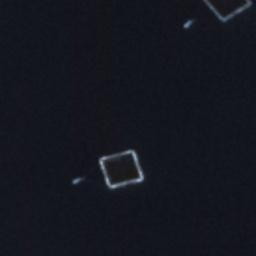square_solid: (96, 145, 148, 193), (199, 1, 255, 24)
